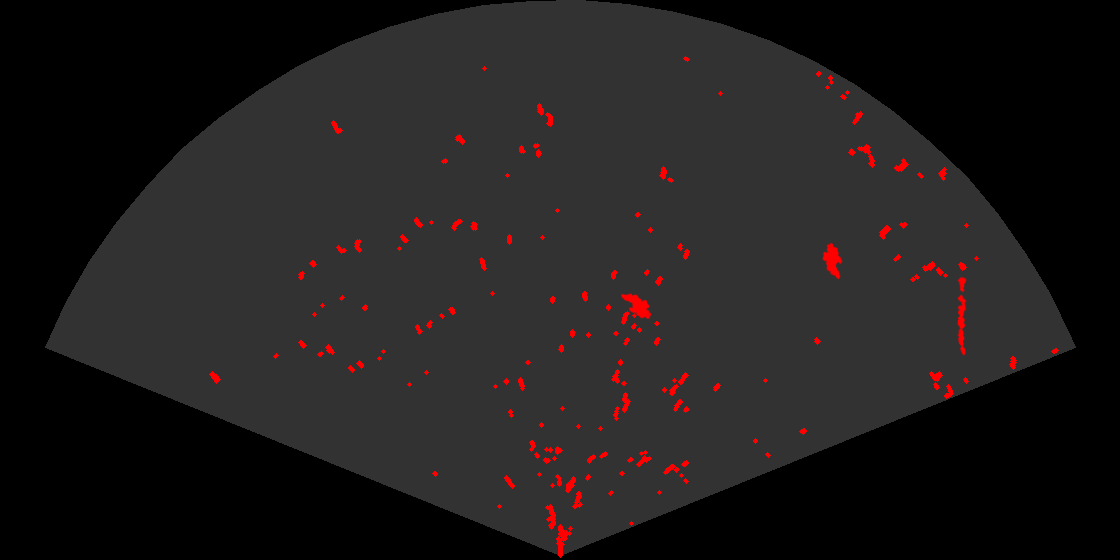AUV: (619, 292, 653, 321), (821, 241, 844, 281)
chain: (956, 276, 968, 356)
